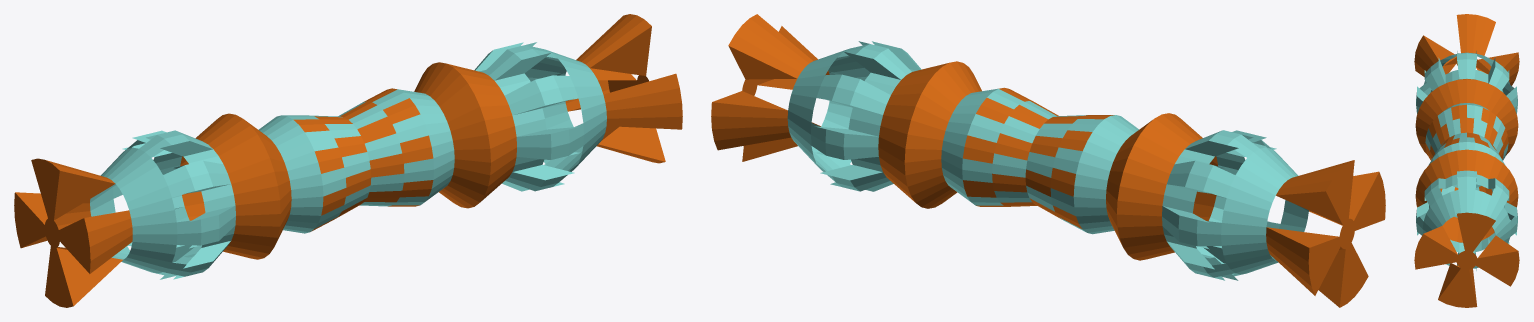
Rendered from Paddle2.fbx.
3 views of the same model, side by side, from view 1: azimuth 30°, elevation 25°; view 2: azimuth 150°, elevation 25°; view 3: azimuth 270°, elevation 25° (orthographic). The views are drawn at different scales.
Visible parts, largest first — view 1: Cylinder; view 2: Cylinder; view 3: Cylinder.
Part boxes in pixels (x1=…): Cylinder: x1=14, y1=14, x2=682, y2=307; Cylinder: x1=711, y1=14, x2=1385, y2=307; Cylinder: x1=1414, y1=14, x2=1519, y2=307.
Size of the model in its own units: 1216 by 272 by 272.
